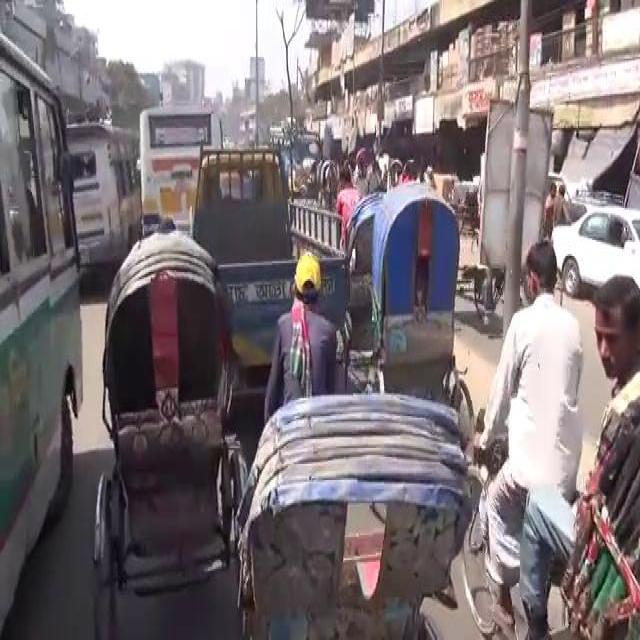bus: (0, 16, 81, 628), (67, 110, 143, 284), (135, 98, 223, 244), (268, 122, 320, 194)
car: (548, 198, 638, 300)
pickup: (188, 136, 352, 376)
rickshaw: (459, 236, 636, 632), (89, 223, 251, 627), (232, 389, 474, 635), (364, 175, 472, 433), (332, 162, 386, 314), (318, 154, 336, 212), (386, 156, 402, 188)
